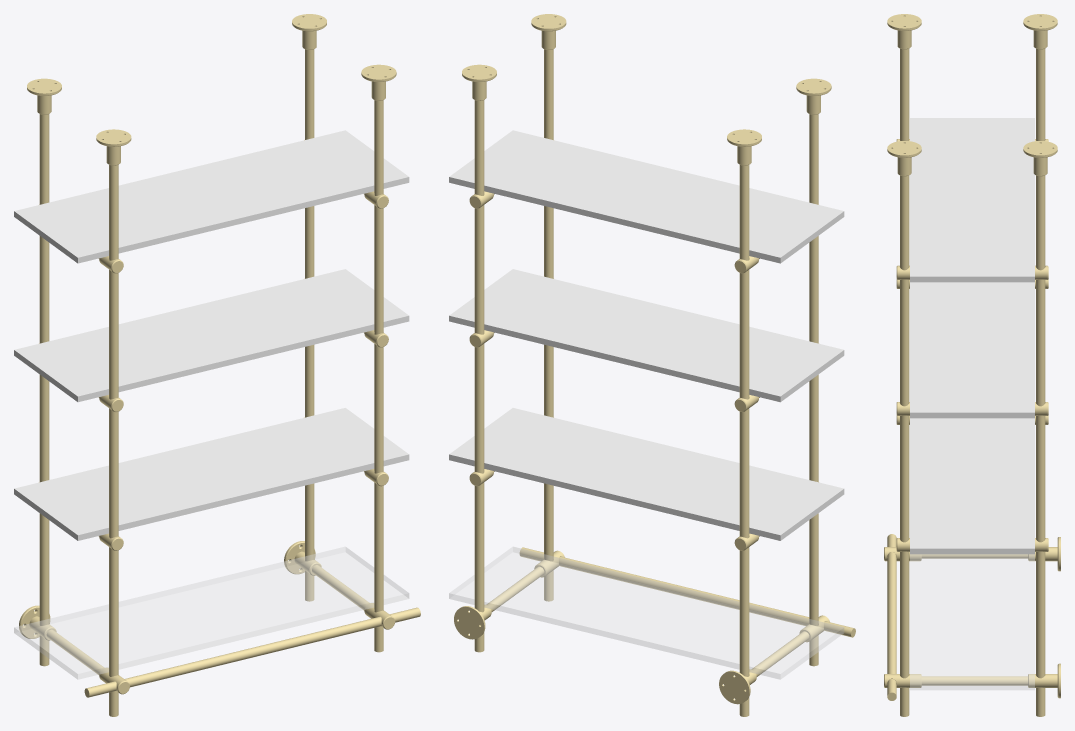
File: wall_ceiling_30w_50h_4s_br.glb
The picture shows the model from 3 angles, left to right: view 1: azimuth 30°, elevation 25°; view 2: azimuth 150°, elevation 25°; view 3: azimuth 270°, elevation 25°; orthographic projection.
Visible parts, largest first — view 1: Glass Shelf (4) (×3), Glass Shelf (3), Post (6), Post (4), Post (5), Post (7), Crossbeam, Rod (10), Rod (11); view 2: Glass Shelf (4) (×3), Glass Shelf (3), Post (7), Post (5), Post (4), Post (6), Crossbeam, J Fitting (4), J Fitting (5), Rod (10), Rod (11); view 3: Glass Shelf (4) (×3), Glass Shelf (3), Post (6), Post (7), Crossbeam, Rod (11), Post (4), Post (5), Rod (10), G Fitting (5), G Fitting (4), G Fitting (6) (+3 smaller).
Boxes of the visible parts, left/top/right/bottom form: Glass Shelf (4) (×3): left=14, top=130, right=409, bottom=540; Glass Shelf (3): left=14, top=547, right=408, bottom=679; Post (6): left=374, top=100, right=383, bottom=652; Post (4): left=109, top=165, right=118, bottom=716; Post (5): left=39, top=114, right=49, bottom=666; Post (7): left=305, top=49, right=314, bottom=601; Crossbeam: left=84, top=607, right=420, bottom=697; Rod (10): left=46, top=629, right=104, bottom=674; Rod (11): left=312, top=565, right=369, bottom=610; Glass Shelf (4) (×3): left=449, top=130, right=844, bottom=540; Glass Shelf (3): left=449, top=547, right=843, bottom=679; Post (7): left=474, top=100, right=484, bottom=652; Post (5): left=739, top=165, right=749, bottom=716; Post (4): left=809, top=114, right=818, bottom=666; Post (6): left=544, top=49, right=553, bottom=601; Crossbeam: left=519, top=547, right=855, bottom=637; J Fitting (4): left=719, top=670, right=750, bottom=704; J Fitting (5): left=454, top=606, right=485, bottom=639; Rod (10): left=751, top=631, right=809, bottom=676; Rod (11): left=486, top=566, right=544, bottom=611; Glass Shelf (4) (×3): left=910, top=118, right=1034, bottom=554; Glass Shelf (3): left=910, top=554, right=1034, bottom=689; Post (6): left=900, top=175, right=909, bottom=716; Post (7): left=1036, top=175, right=1045, bottom=716; Crossbeam: left=887, top=534, right=896, bottom=700; Rod (11): left=921, top=676, right=1027, bottom=685; Post (4): left=900, top=48, right=909, bottom=140; Post (5): left=1036, top=48, right=1045, bottom=140; Rod (10): left=921, top=554, right=1027, bottom=558; G Fitting (5): left=1023, top=14, right=1057, bottom=30; G Fitting (4): left=887, top=14, right=921, bottom=30; G Fitting (6): left=887, top=141, right=921, bottom=157.
Size of the model in its own units: 0.762 by 1.27 by 0.3591.
